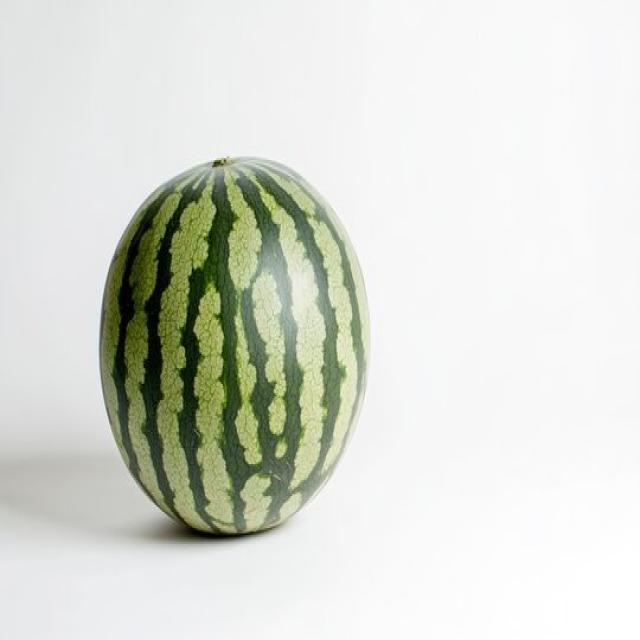Watermelon: (97, 150, 366, 533)
